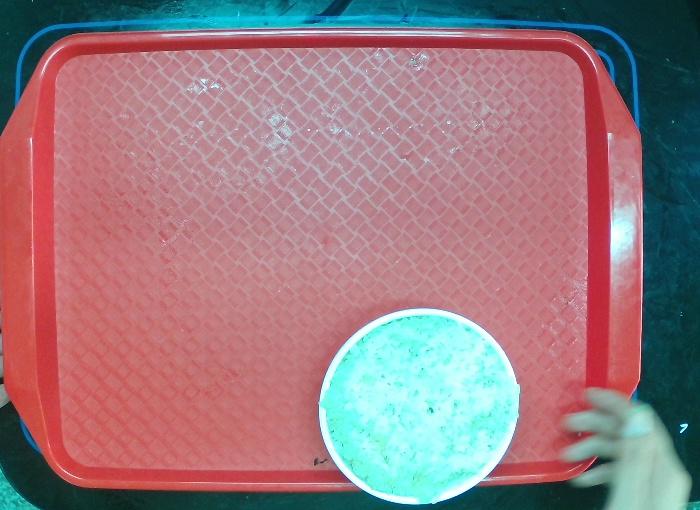YKMZ-Fan_Wan: (300, 297, 526, 510)
